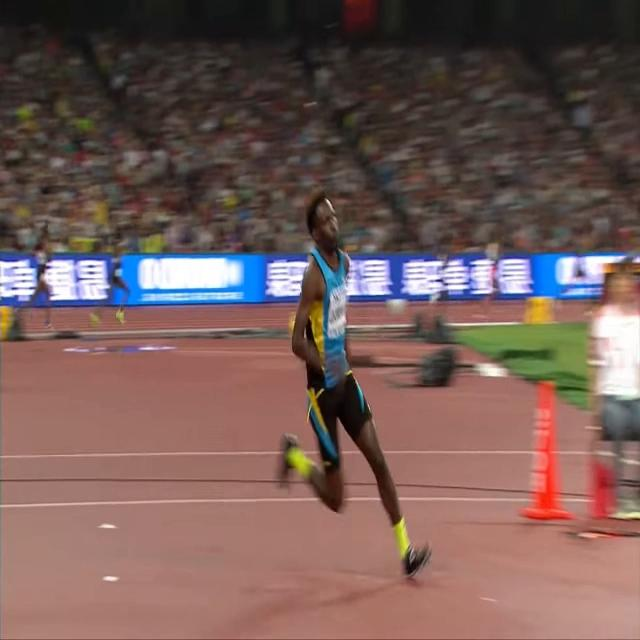run: (276, 188, 432, 580)
